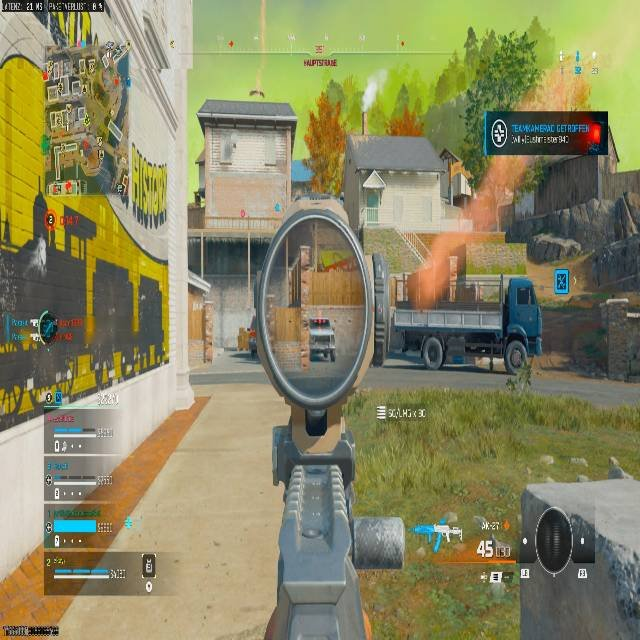player: (248, 331, 258, 359)
